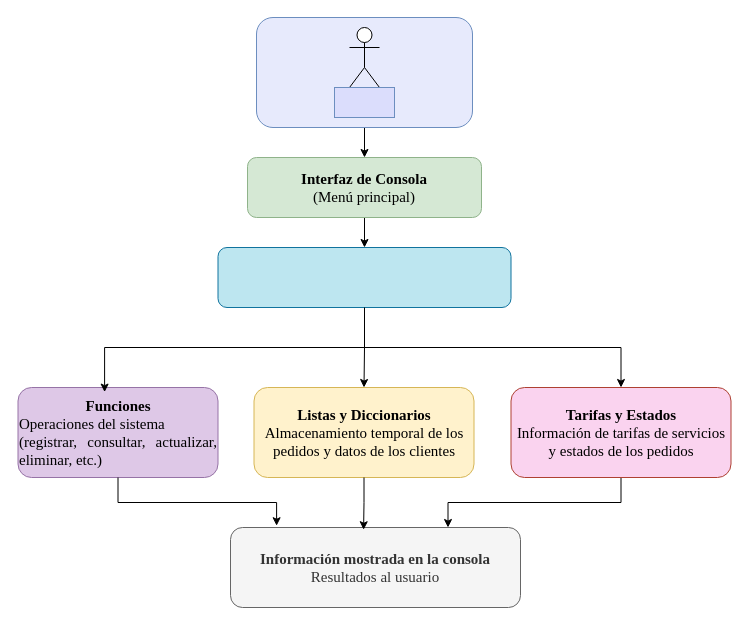
Image size: 748x625. Some labels were removed from this diagram. The centre of each missing label's shape, as x and y in pixels:
Actor: point (364, 57)
Sistema de Gestión de Pedidos para una Lavandería (Python): point (364, 277)
Usuario: point (364, 102)
